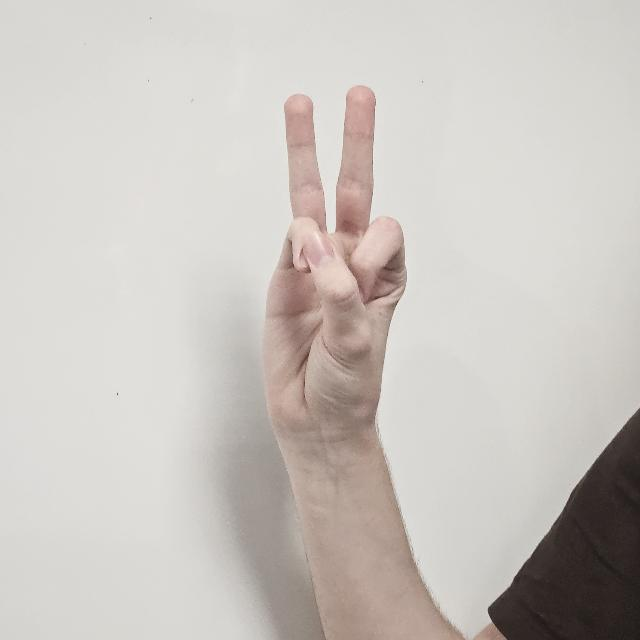R: (258, 85, 408, 497)
